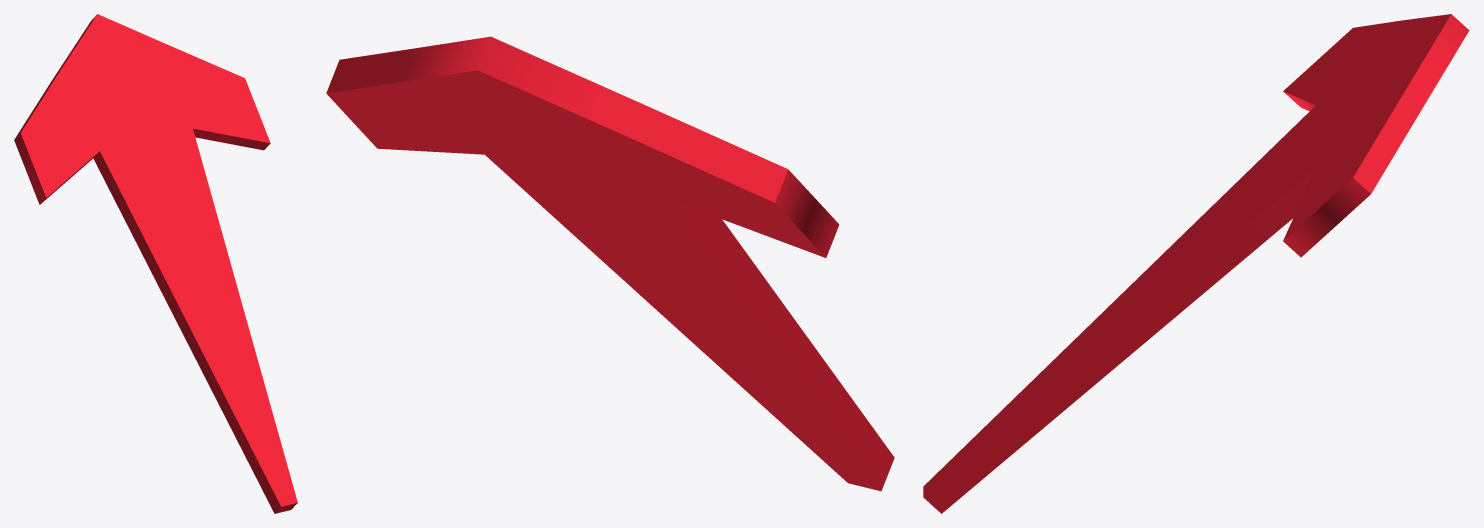
File: SM_Hub_Stairs_02.fbx
3 views of the same model, side by side, from view 1: azimuth 30°, elevation 25°; view 2: azimuth 150°, elevation 25°; view 3: azimuth 270°, elevation 25° (orthographic). The views are drawn at different scales.
Visible parts, largest first — view 1: SM_Hub_Stairs_02; view 2: SM_Hub_Stairs_02; view 3: SM_Hub_Stairs_02.
Boxes of the visible parts, x1,y1,x2,y2 form: SM_Hub_Stairs_02: [14, 14, 297, 513]; SM_Hub_Stairs_02: [326, 36, 894, 491]; SM_Hub_Stairs_02: [923, 14, 1469, 513].
Size of the model in its own units: 10.68 by 16.44 by 16.44.
